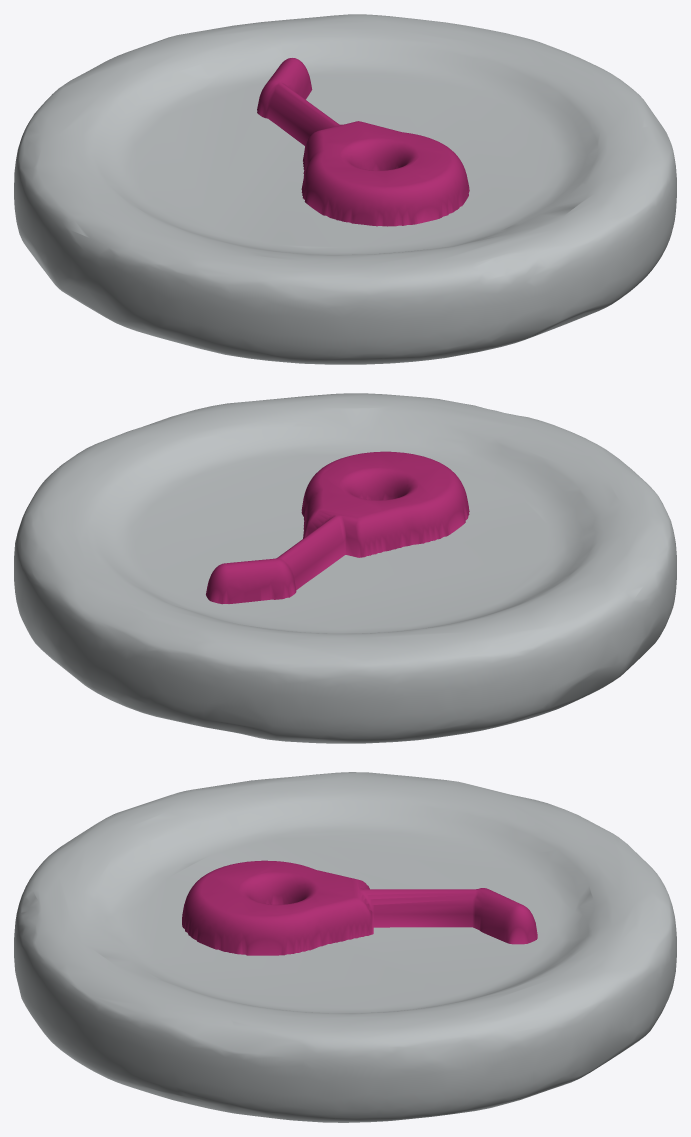
The model's file is token-bard-blue.glb.
The picture shows the model from 3 angles, top to bottom: view 1: azimuth 30°, elevation 25°; view 2: azimuth 150°, elevation 25°; view 3: azimuth 270°, elevation 25°; orthographic projection.
Visible parts, largest first — view 1: token_bard_blue; view 2: token_bard_blue; view 3: token_bard_blue.
Boxes of the visible parts, x1,y1,x2,y2 form: token_bard_blue: [14, 14, 676, 364]; token_bard_blue: [14, 393, 676, 743]; token_bard_blue: [14, 772, 676, 1122].
Bounding box in the file's own units: 0.4139 × 0.072 × 0.414.
